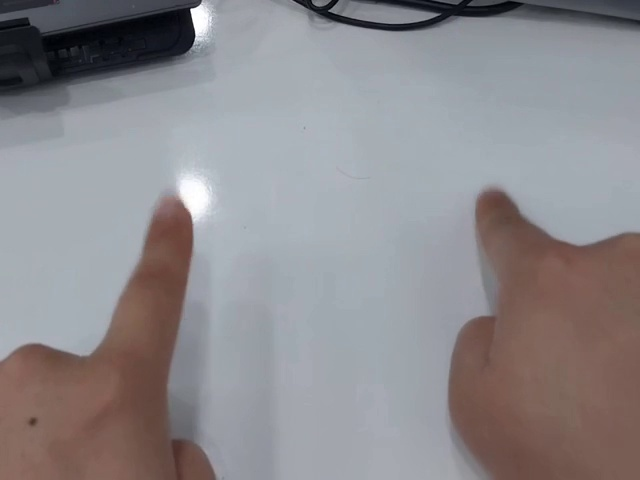fingers: (145, 195, 195, 249), (473, 187, 520, 230)
